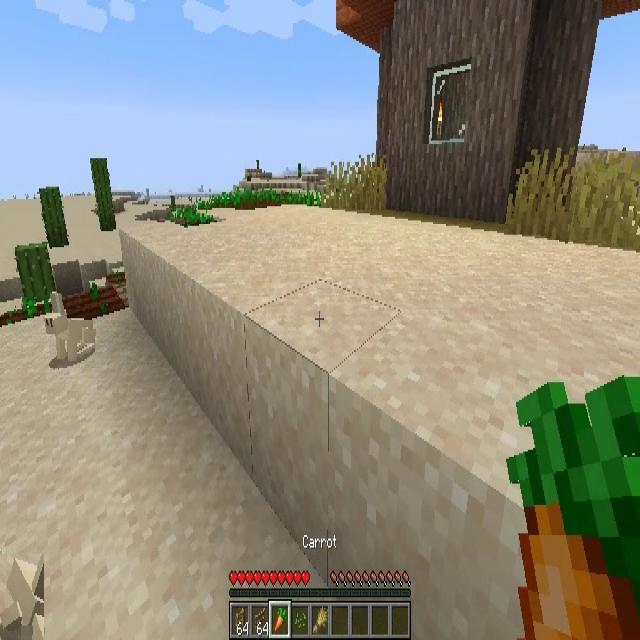rabbit: (0, 554, 44, 640), (46, 296, 96, 366)
